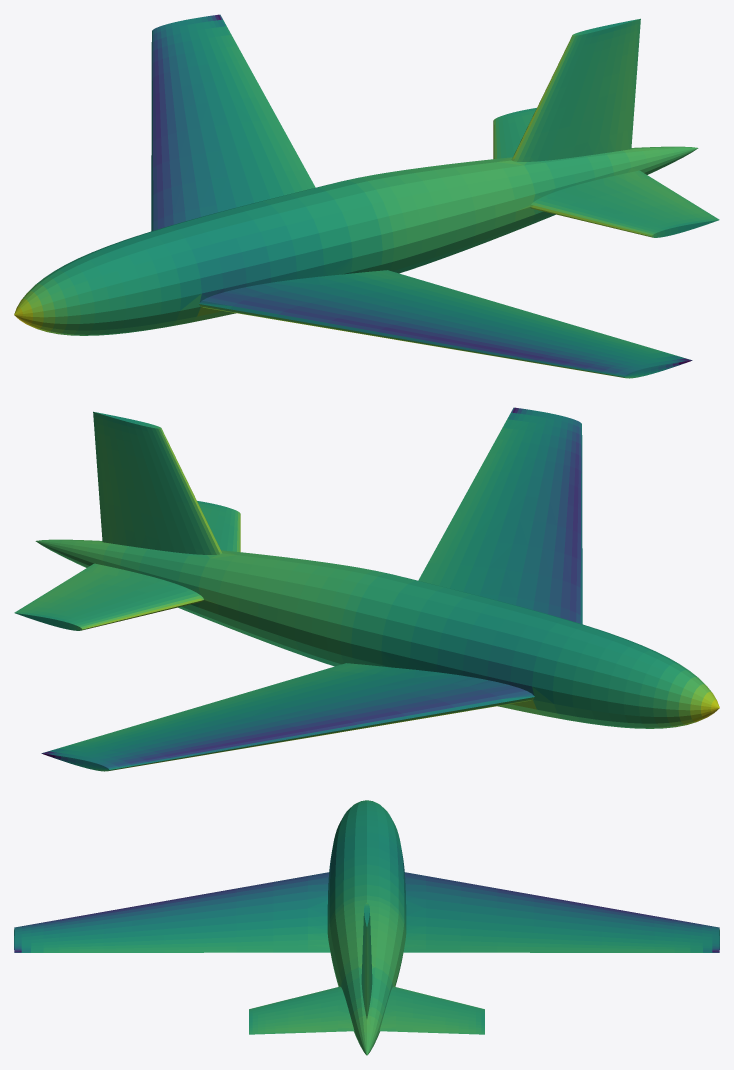
Rendered from pod_plane.glb.
The picture shows the model from 3 angles, top to bottom: view 1: azimuth 30°, elevation 25°; view 2: azimuth 150°, elevation 25°; view 3: azimuth 270°, elevation 25°; orthographic projection. The views are drawn at different scales.
Visible parts, largest first — view 1: Shape_IndexedFaceSet; view 2: Shape_IndexedFaceSet; view 3: Shape_IndexedFaceSet.
Boxes of the visible parts, box(x1,y1,x2,y2) form: Shape_IndexedFaceSet: box(14, 14, 719, 378); Shape_IndexedFaceSet: box(14, 407, 719, 771); Shape_IndexedFaceSet: box(14, 800, 719, 1055).
Bounding box in the file's own units: 10 × 2.67 × 11.96.
